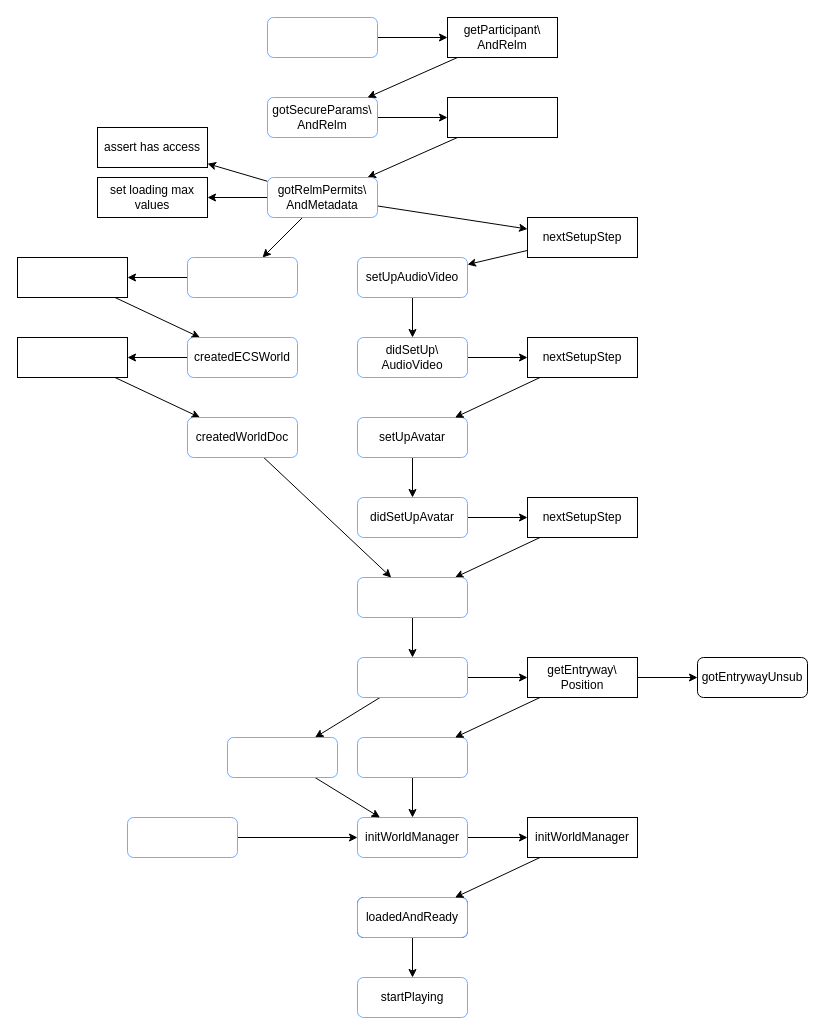
Image size: 825x1035. Some labels were removed from this diagram. Here are the shapes that lost their labels. From the top down, the centre of each, then its label:
At (322,37): "pageLoaded".
At (502,117): "getRelmPermits\ AndMetadata".
At (72,277): "createECSWorld".
At (242,277): "importPhysics\ Engine".
At (72,357): "createWorldDoc".
At (412,597): "loading".
At (412,677): "loaded".
At (282,757): "assumeOriginAs\ Entryway".
At (412,757): "gotEntryway\ Position".
At (182,837): "madeLocal\ Participant".
